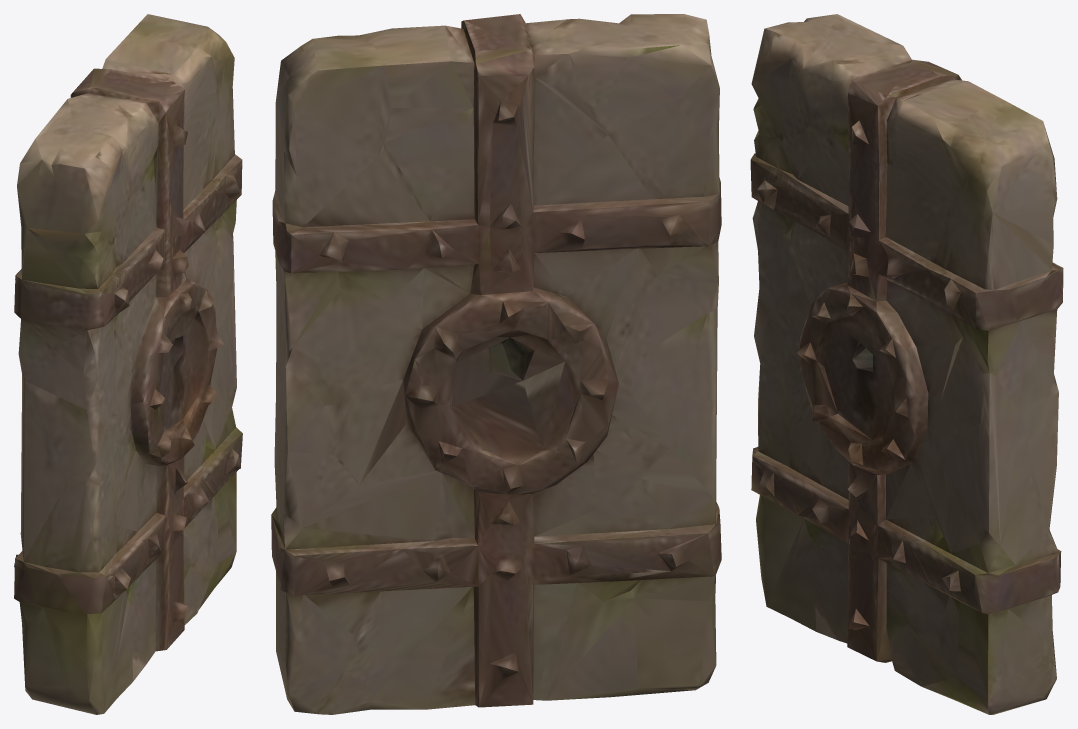
Rendered from puerta_llave_hoja_1500.glb.
The picture shows the model from 3 angles, left to right: view 1: azimuth 30°, elevation 25°; view 2: azimuth 150°, elevation 25°; view 3: azimuth 270°, elevation 25°; orthographic projection. The views are drawn at different scales.
Parts seen in each view (by area): view 1: puerta_llave_hoja_malla; view 2: puerta_llave_hoja_malla; view 3: puerta_llave_hoja_malla.
Boxes of the visible parts, left/top/right/bottom form: puerta_llave_hoja_malla: left=14, top=14, right=242, bottom=714; puerta_llave_hoja_malla: left=271, top=14, right=721, bottom=714; puerta_llave_hoja_malla: left=750, top=14, right=1063, bottom=714.
Size of the model in its own units: 0.1983 by 0.3525 by 0.1734.
1 material, 1 textured.
